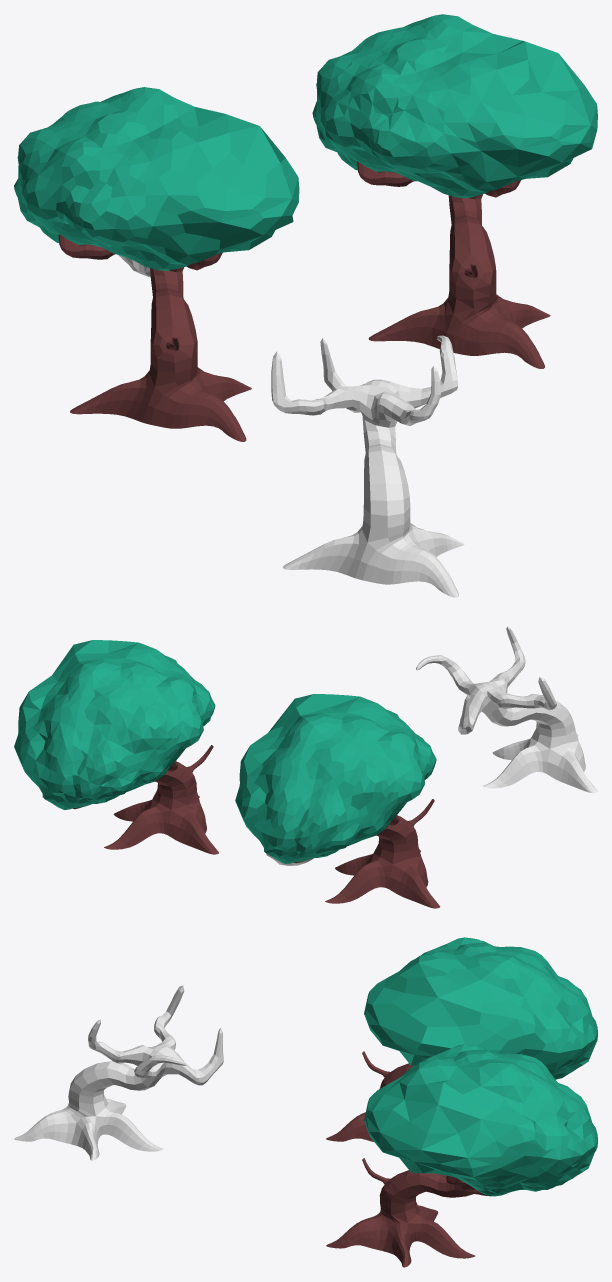
File: drzewo_1.fbx
3 views of the same model, one above another, from view 1: azimuth 30°, elevation 25°; view 2: azimuth 150°, elevation 25°; view 3: azimuth 270°, elevation 25° (orthographic). The views are drawn at different scales.
Visible parts, largest first — view 1: Cube.003, Icosphere, Cube.001, Cube.002; view 2: Cube.003, Icosphere, Cube.001, Cube.002; view 3: Cube.003, Icosphere, Cube.001, Cube.002.
Part boxes in pixels (left/top/right/bottom): Cube.003: left=312, top=14, right=597, bottom=368; Icosphere: left=14, top=87, right=299, bottom=270; Cube.001: left=271, top=335, right=464, bottom=597; Cube.002: left=58, top=234, right=251, bottom=441; Cube.003: left=14, top=640, right=218, bottom=854; Icosphere: left=235, top=694, right=436, bottom=863; Cube.001: left=416, top=626, right=597, bottom=793; Cube.002: left=294, top=799, right=440, bottom=908; Cube.003: left=326, top=1044, right=597, bottom=1267; Icosphere: left=364, top=937, right=597, bottom=1079; Cube.001: left=14, top=985, right=223, bottom=1160; Cube.002: left=326, top=1051, right=413, bottom=1141.
Size of the model in its own units: 3845 by 1819 by 4973.
